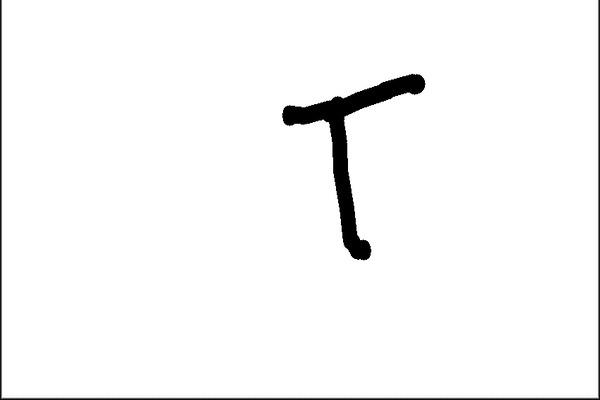T: (272, 66, 430, 265)
